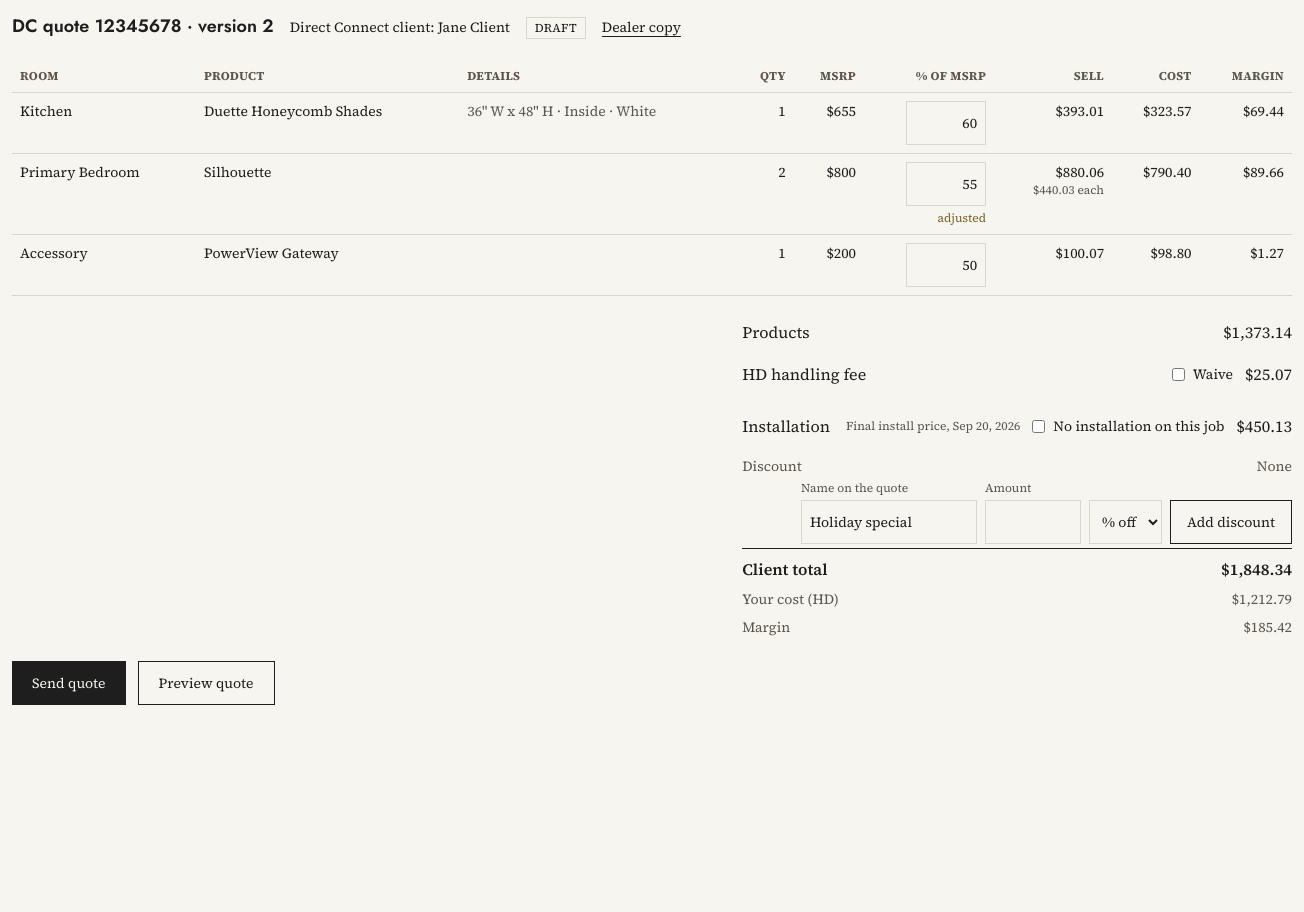
Test case: QuoteReview choices › shows a refusal and puts the box back to what is saved
Click the checkbox labelled "Waive".
click(1178, 374)  # box x1=1172 y1=368 x2=1185 y2=380
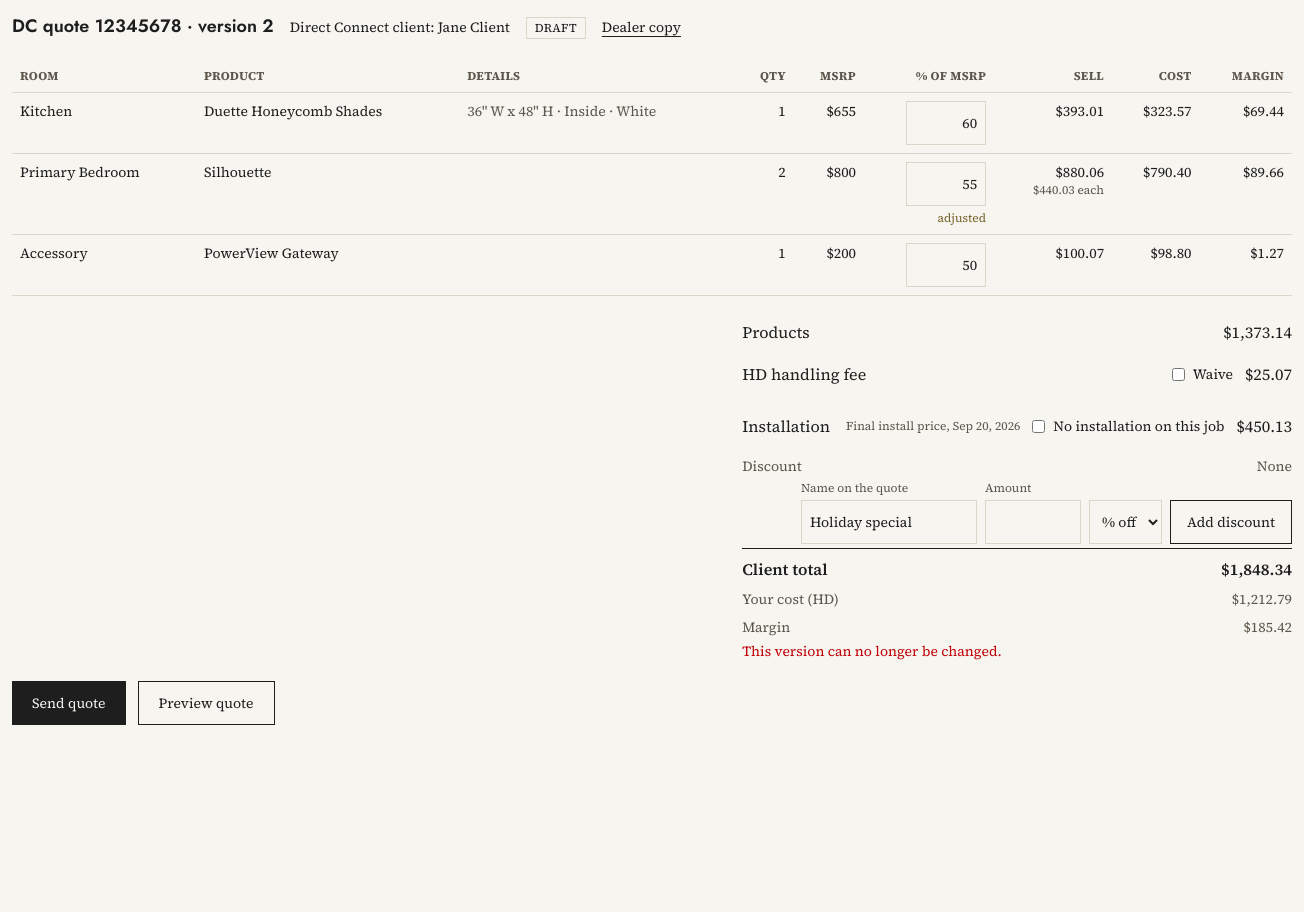
Check: the message reads "This version can no longer be changed.", box x1=742 y1=641 x2=1002 y2=661
